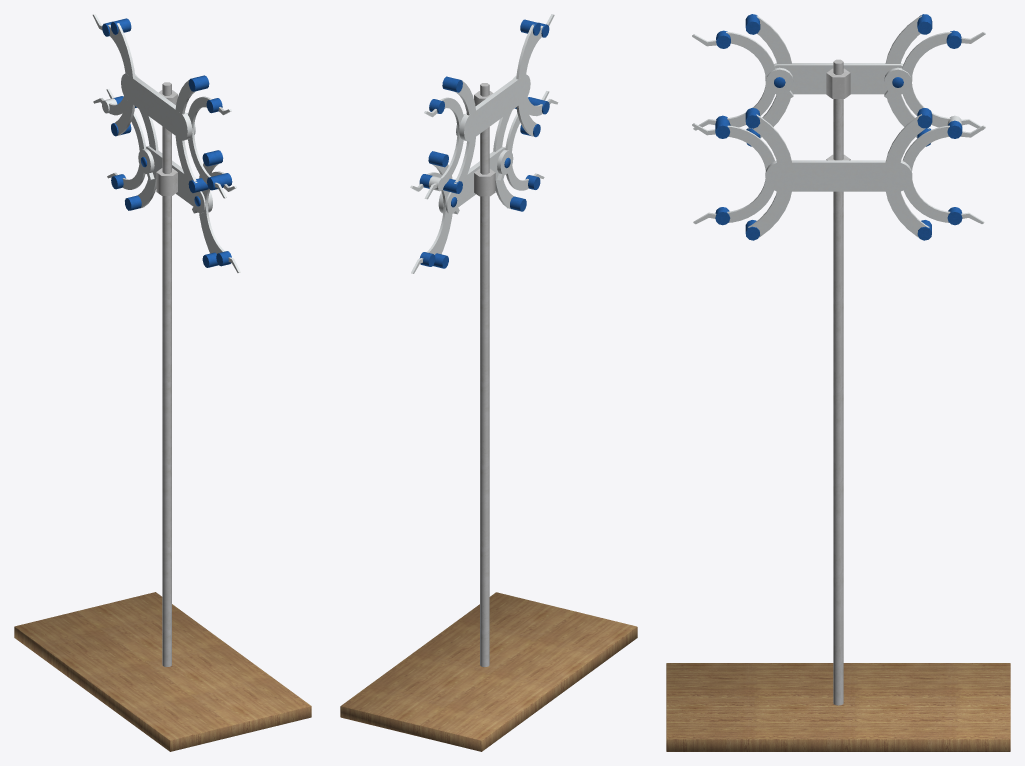
The model's file is SM_酸式滴定管组合.fbx.
3 views of the same model, side by side, from view 1: azimuth 30°, elevation 25°; view 2: azimuth 150°, elevation 25°; view 3: azimuth 270°, elevation 25° (orthographic). The views are drawn at different scales.
Parts seen in each view (by area): view 1: SM_酸式滴定管组合; view 2: SM_酸式滴定管组合; view 3: SM_酸式滴定管组合.
Part boxes in pixels (<box>): SM_酸式滴定管组合: <box>14,14,311,751</box>; SM_酸式滴定管组合: <box>340,14,637,751</box>; SM_酸式滴定管组合: <box>666,14,1010,751</box>.
Size of the model in its own units: 0.1798 by 0.762 by 0.3425.
